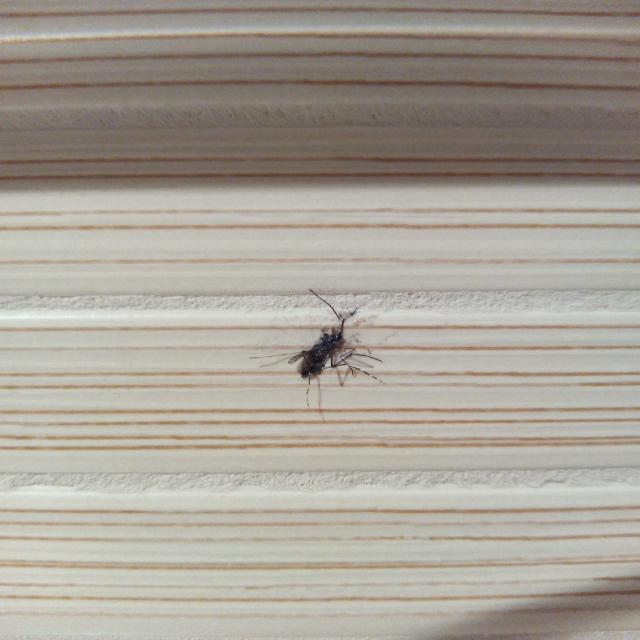albopictus: (243, 287, 390, 420)
